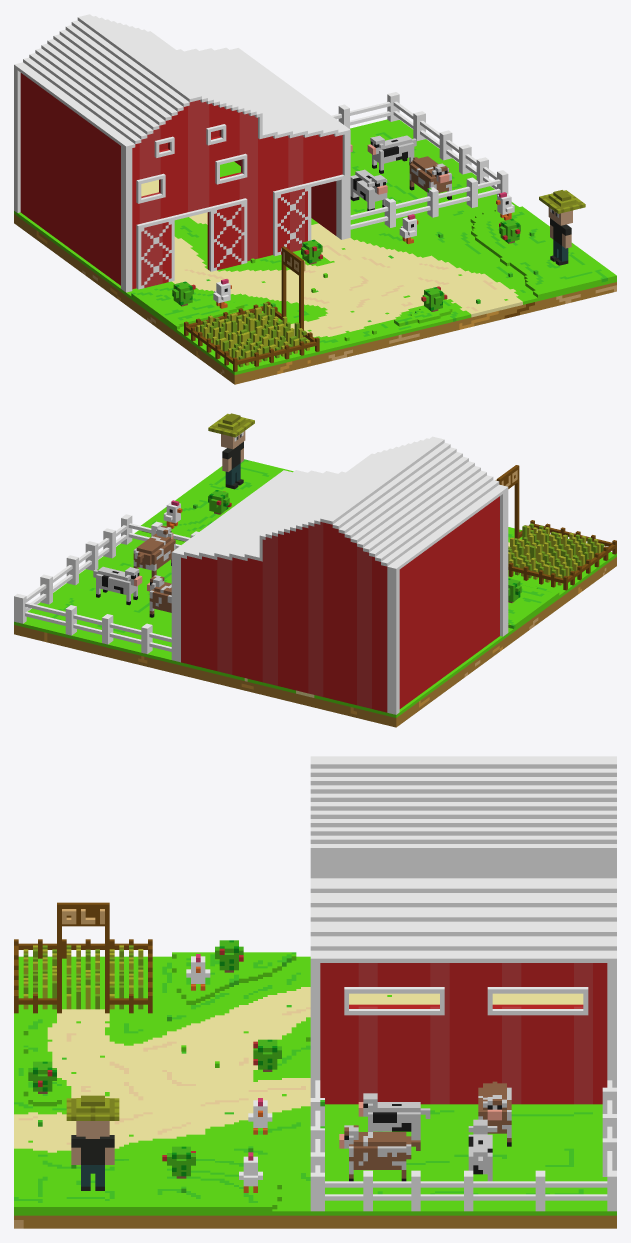
The model's file is farm.obj.
3 renders of one model, top to bottom at view 1: azimuth 30°, elevation 25°; view 2: azimuth 150°, elevation 25°; view 3: azimuth 270°, elevation 25°, orthographic. The views are drawn at different scales.
Size of the model in its own units: 12.6 by 6 by 12.6.
Materials: 1 (1 with a texture image).
